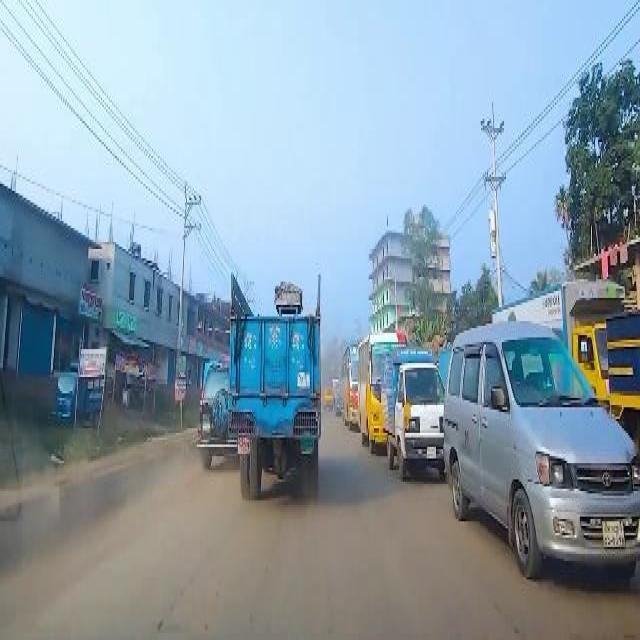Truck: (227, 258, 327, 512)
